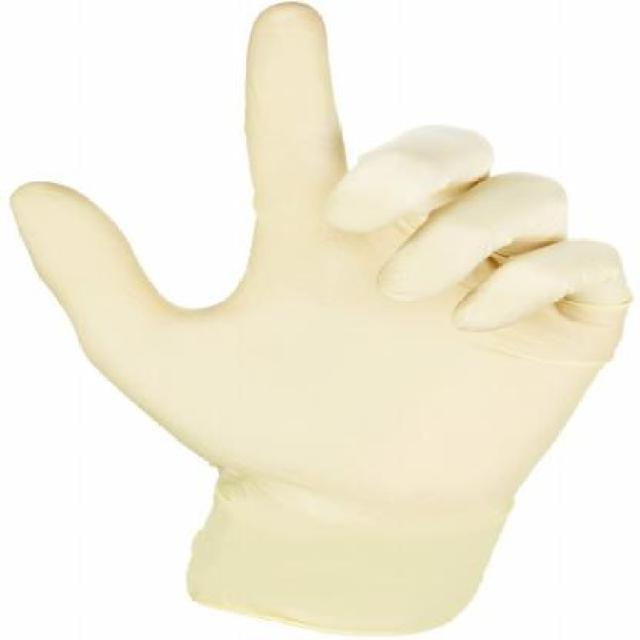gloved_hand: (12, 4, 626, 638)
